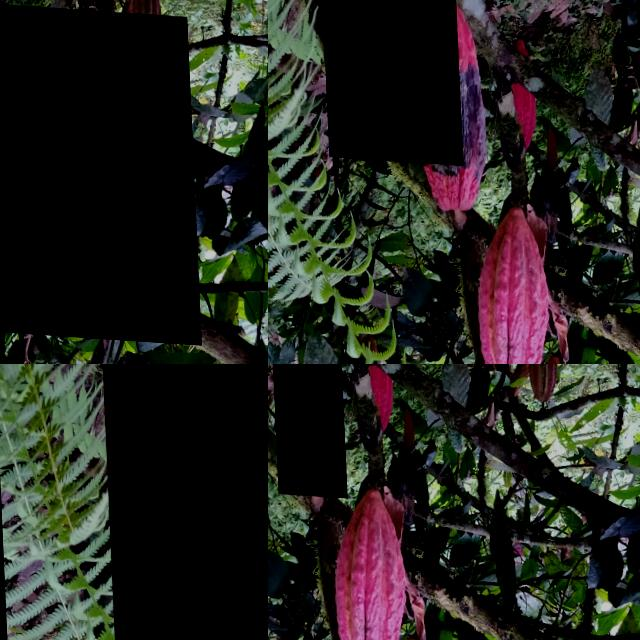Fitoftora: (0, 0, 196, 337), (99, 364, 268, 640), (317, 0, 460, 162), (268, 364, 344, 493), (393, 434, 414, 525)
Sana: (409, 0, 543, 219), (328, 480, 408, 640), (268, 37, 320, 230), (363, 364, 392, 432), (525, 364, 556, 393)
